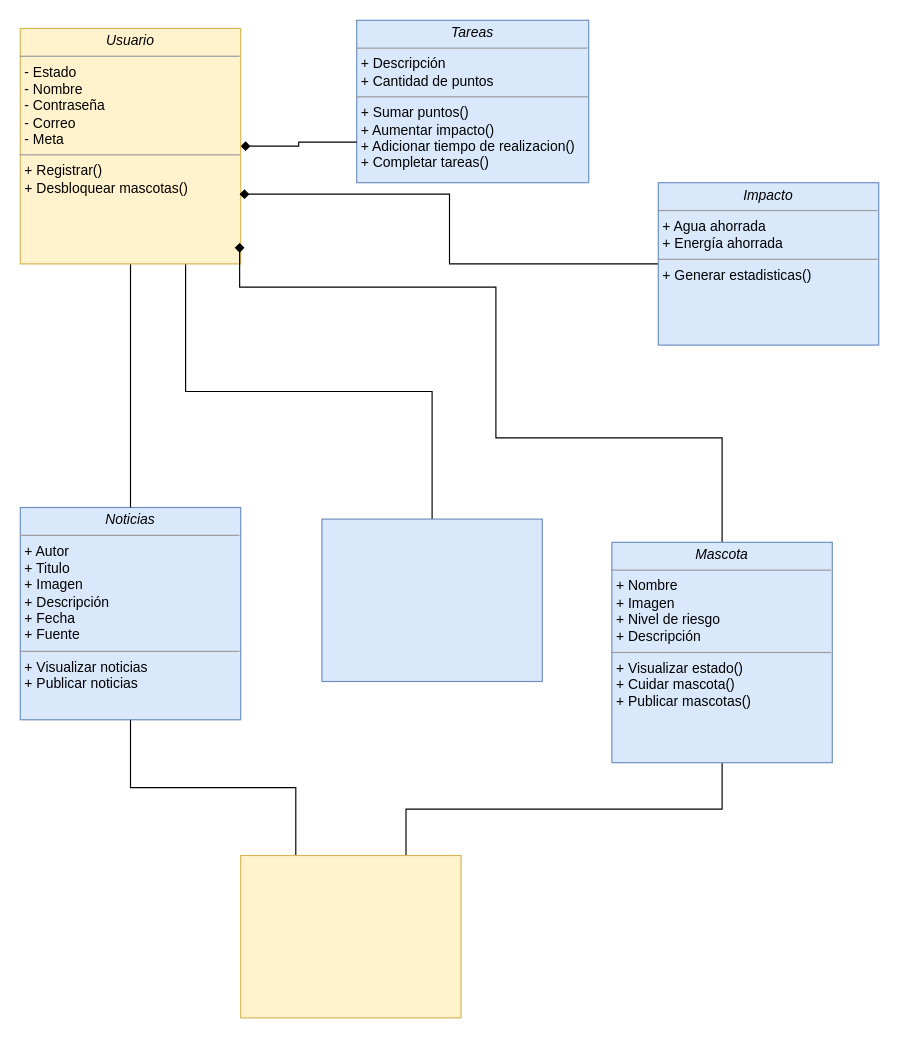
This 899x1038 diagram has some shape labels left out. Here are the shapes that lost their labels. From the top down, the centre of each, then its label:
pixel 431 600: Notificaciones + Imagen + Descripcion + Abrir app ()
pixel 350 936: Administrador - Nombre - Contraseña + Publicar noticias() + Publicar mascotas()
